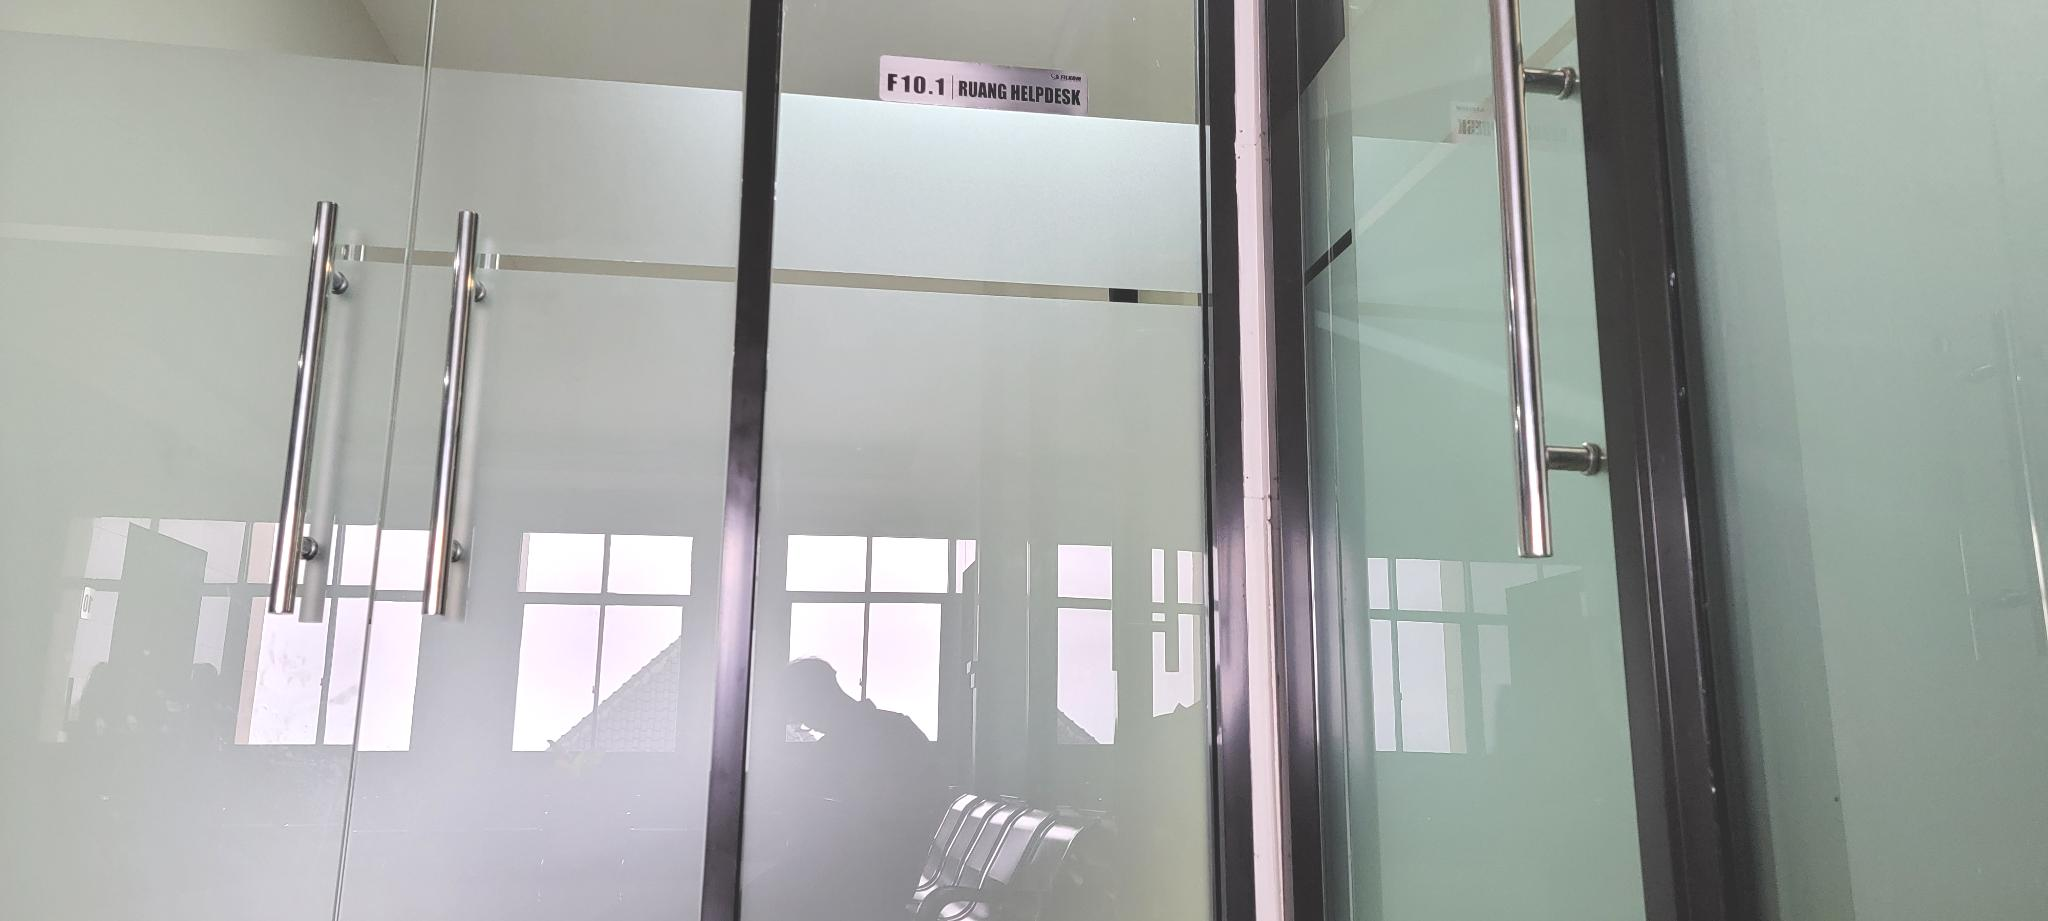plate: (876, 50, 1093, 119)
